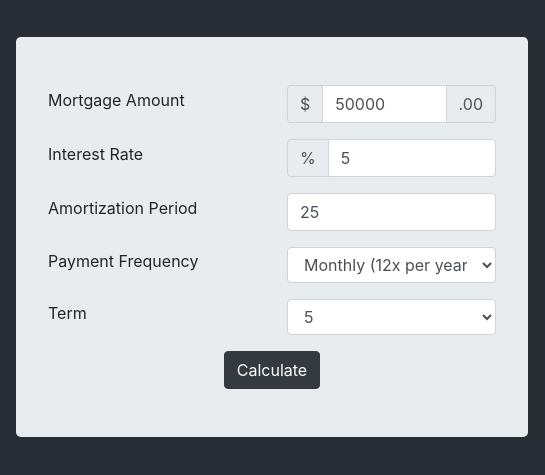
Test: Mortgage › Rate error should be rendered if invalid value is entered
The image size is (545, 475).
Replace the text in the number field with test id "rate" with "101" at [412, 158], box top-left (328, 139), bottom-right (496, 177)
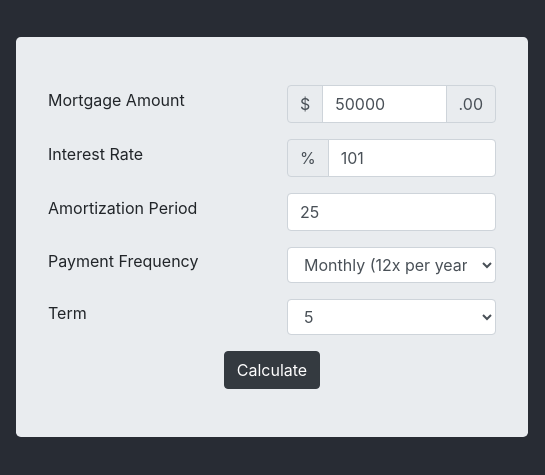
Click the button with test id "calculate-btn" at [272, 370], box top-left (224, 351), bottom-right (320, 389)
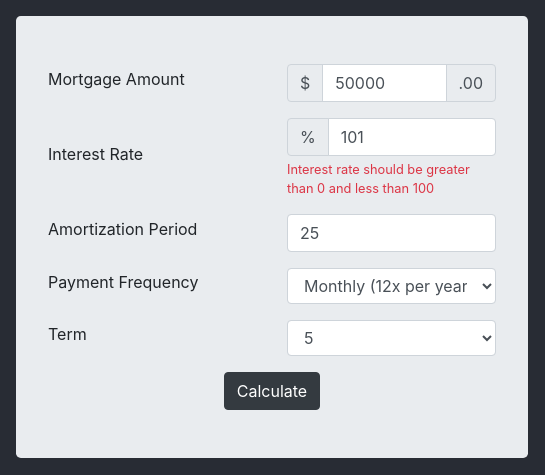
Check: the text "Interest rate should be greater than 0 and less than 100" is shown, box top-left (287, 160), bottom-right (496, 198)
